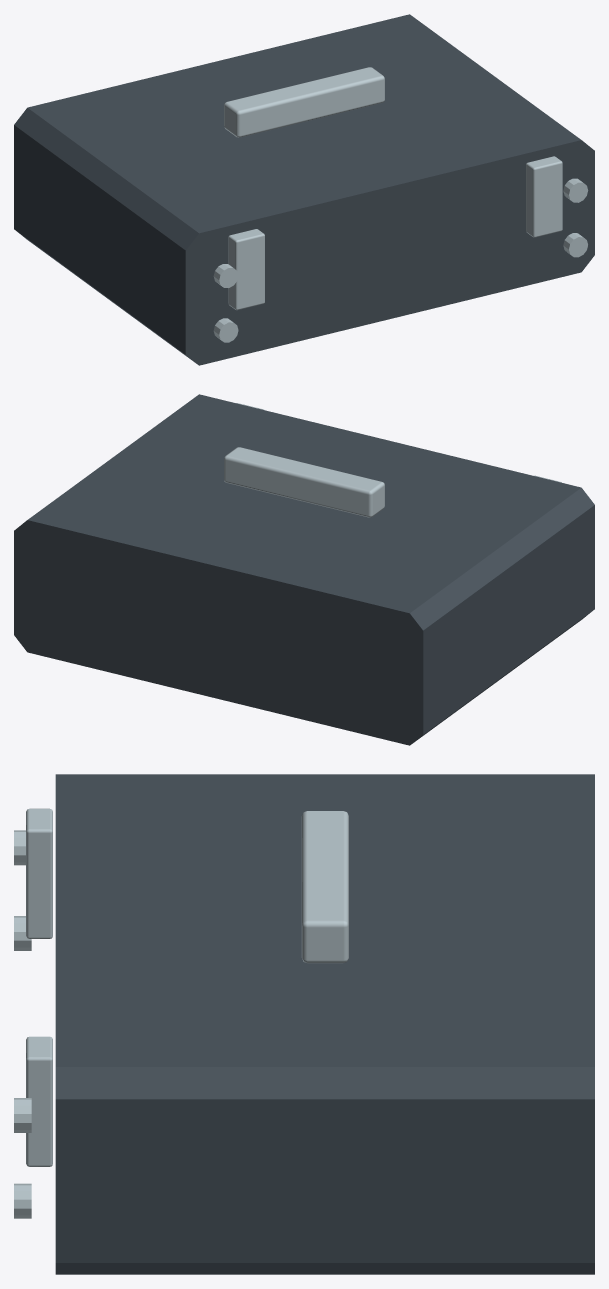
The model's file is data-centre-infiltration-kit-data-centre-infiltration--f174c804__29253.glb.
3 views of the same model, one above another, from view 1: azimuth 30°, elevation 25°; view 2: azimuth 150°, elevation 25°; view 3: azimuth 270°, elevation 25° (orthographic). The views are drawn at different scales.
Parts seen in each view (by area): view 1: data-centre-infiltration-kit-tool-case; view 2: data-centre-infiltration-kit-tool-case; view 3: data-centre-infiltration-kit-tool-case.
Boxes of the visible parts, <box> form: data-centre-infiltration-kit-tool-case: <box>14,14,594,365</box>; data-centre-infiltration-kit-tool-case: <box>14,394,594,745</box>; data-centre-infiltration-kit-tool-case: <box>14,774,594,1274</box>.
Size of the model in its own units: 0.55 by 0.215 by 0.431.
